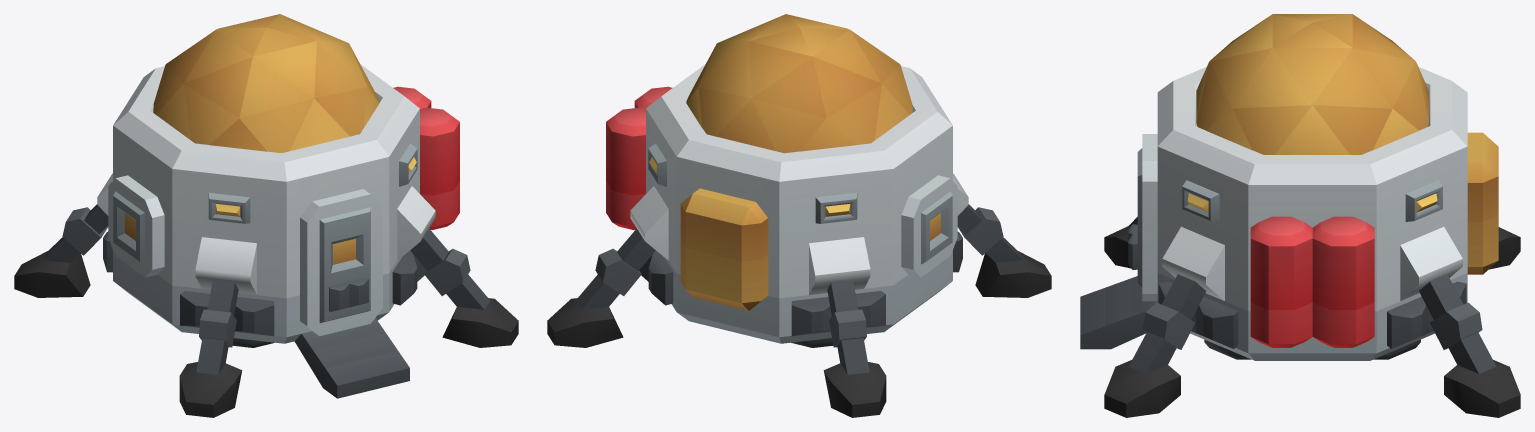
The model's file is lander-b.glb.
3 views of the same model, side by side, from view 1: azimuth 30°, elevation 25°; view 2: azimuth 150°, elevation 25°; view 3: azimuth 270°, elevation 25° (orthographic). The views are drawn at different scales.
Parts seen in each view (by area): view 1: lander_B; view 2: lander_B; view 3: lander_B.
Part boxes in pixels (x1,y1,x2,y2): lander_B: (14, 14, 518, 417); lander_B: (547, 14, 1051, 417); lander_B: (1080, 14, 1520, 417).
Size of the model in its own units: 1.37 by 1.1 by 1.42.
1 material, 1 textured.
